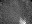person: (20, 15, 26, 23)
